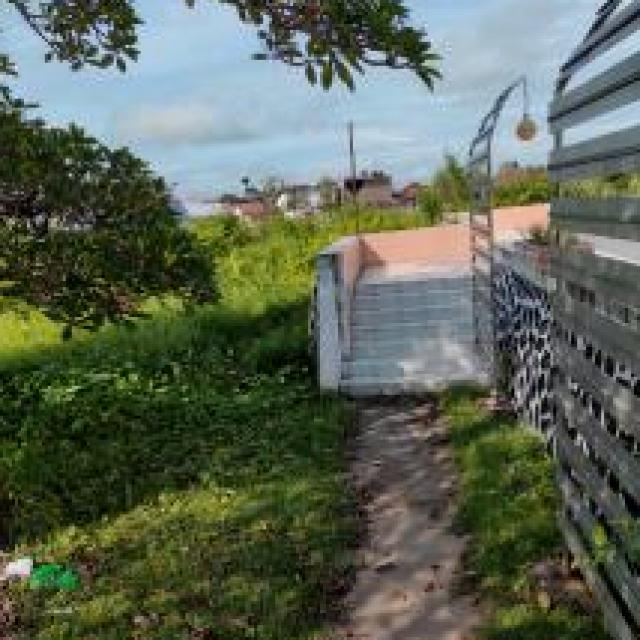upstair: (351, 276, 479, 402)
